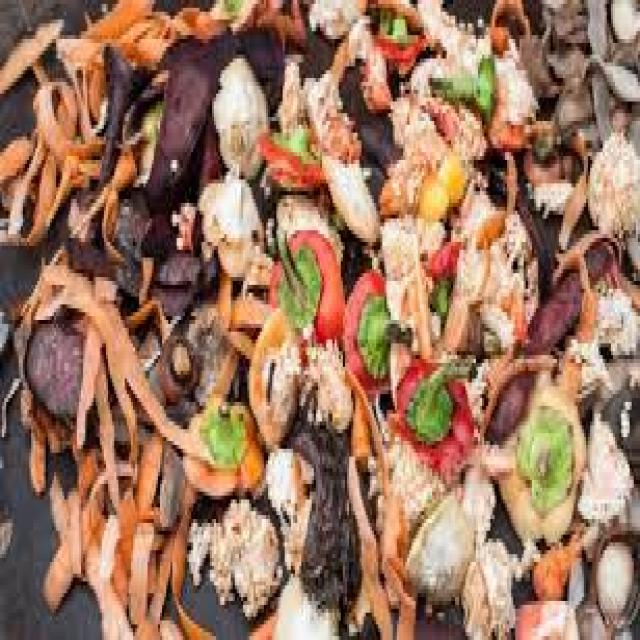food_waste: (174, 110, 627, 480)
